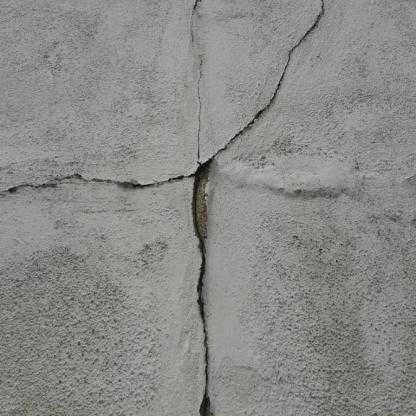crack: (0, 0, 324, 416), (189, 0, 202, 43)
